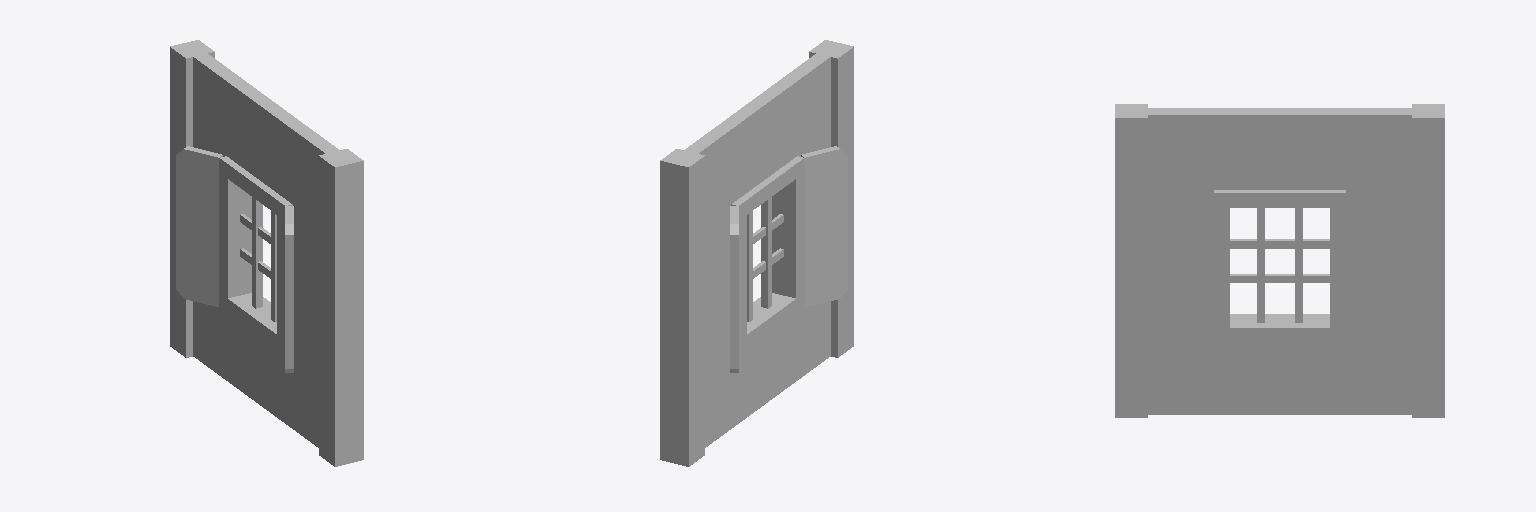
Rendered from wall-window-shutters.obj.
The picture shows the model from 3 angles: view 1: azimuth 30°, elevation 25°; view 2: azimuth 150°, elevation 25°; view 3: azimuth 270°, elevation 25°; orthographic projection.
Parts seen in each view (by area): view 1: wall-window-shutters; view 2: wall-window-shutters; view 3: wall-window-shutters.
Boxes of the visible parts, x1=… form: wall-window-shutters: x1=170, y1=40, x2=363, y2=466; wall-window-shutters: x1=660, y1=40, x2=853, y2=466; wall-window-shutters: x1=1115, y1=104, x2=1444, y2=417.
Bounding box in the file's own units: 0.175 × 1 × 1.